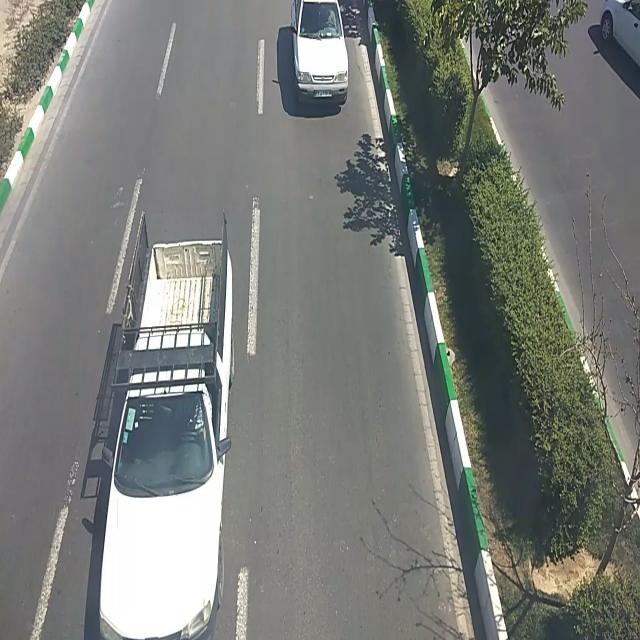car: (97, 215, 236, 640), (289, 3, 351, 108), (600, 0, 640, 80)
